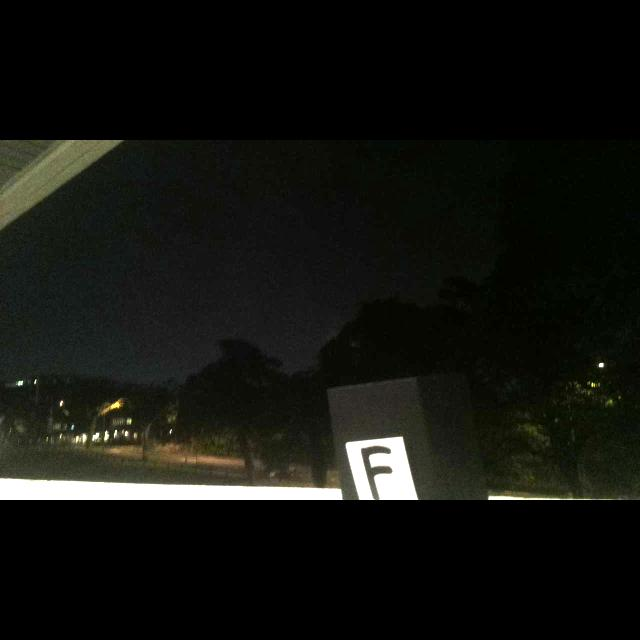F: (361, 445, 394, 500)
